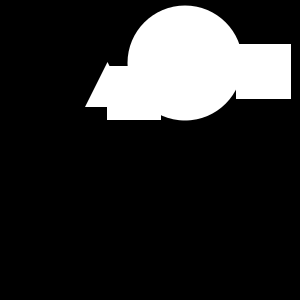circle: (236, 44, 291, 99), (107, 66, 161, 120)
rectangle: (128, 5, 242, 120)
triangle: (85, 62, 130, 107)
